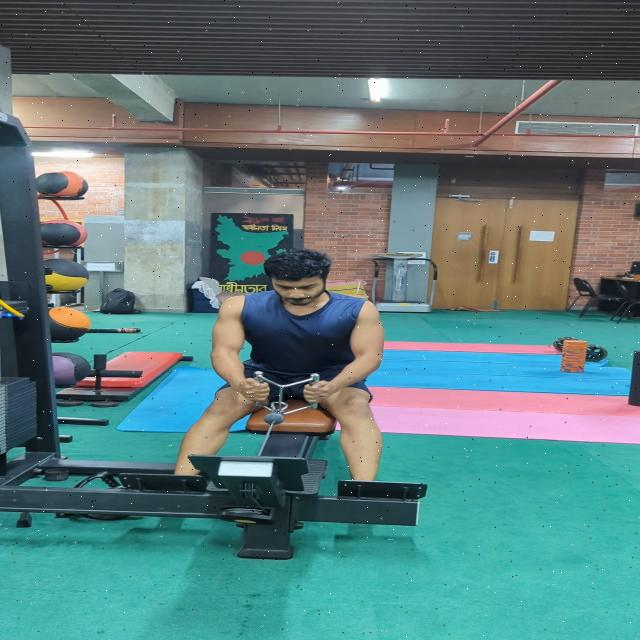Normal_RowingMachineExercise: (170, 247, 392, 510)
